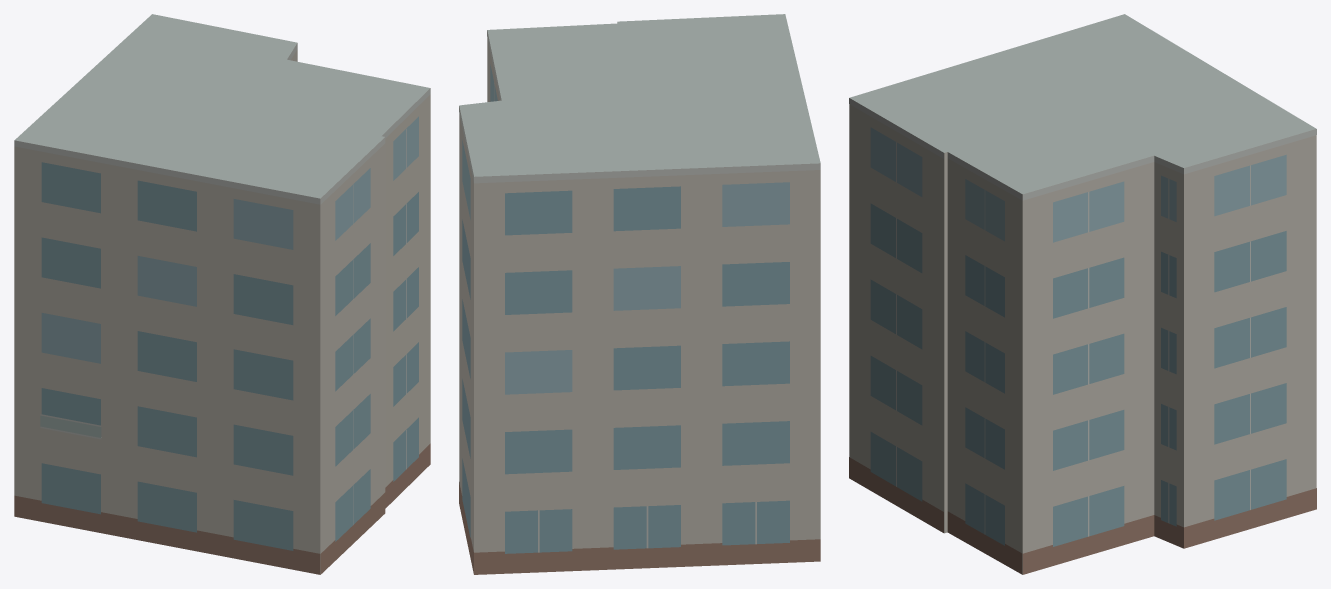
Rendered from survey-upis-32780033.glb.
The picture shows the model from 3 angles, left to right: view 1: azimuth 30°, elevation 25°; view 2: azimuth 150°, elevation 25°; view 3: azimuth 270°, elevation 25°; orthographic projection. The views are drawn at different scales.
Parts seen in each view (by area): view 1: survey-upis-32780033.tmp; view 2: survey-upis-32780033.tmp; view 3: survey-upis-32780033.tmp.
Part boxes in pixels (left/top/right/bottom): survey-upis-32780033.tmp: left=14, top=14, right=430, bottom=574; survey-upis-32780033.tmp: left=459, top=14, right=820, bottom=574; survey-upis-32780033.tmp: left=849, top=14, right=1316, bottom=574.
Bounding box in the file's own units: 15.11 × 14.85 × 16.55.
